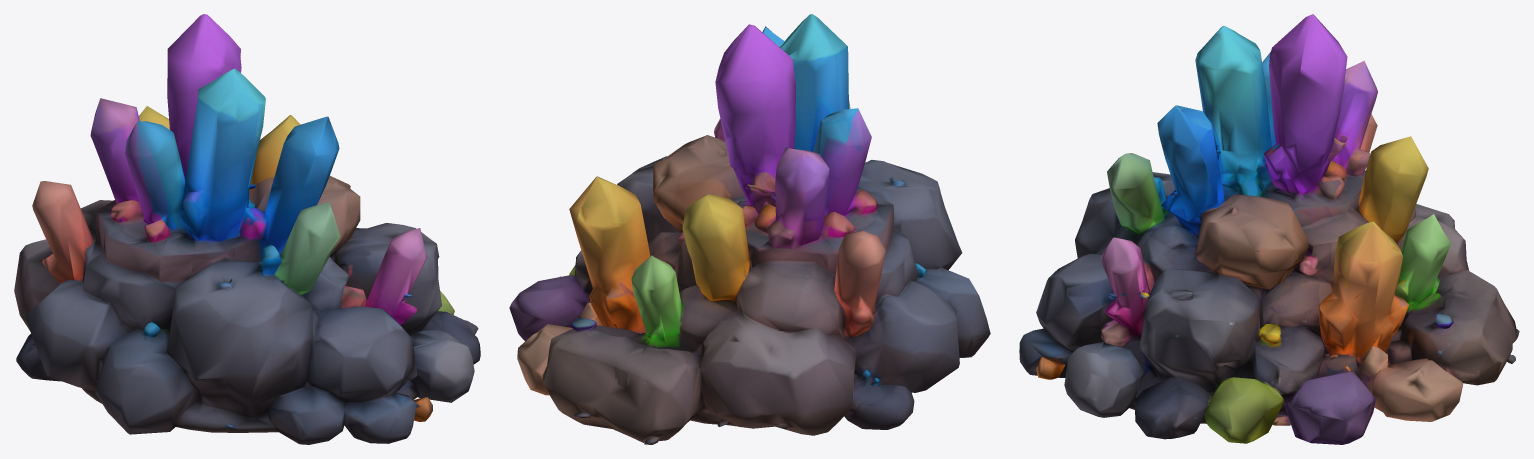
Rendered from crystal.glb.
3 views of the same model, side by side, from view 1: azimuth 30°, elevation 25°; view 2: azimuth 150°, elevation 25°; view 3: azimuth 270°, elevation 25° (orthographic). The views are drawn at different scales.
Visible parts, largest first — view 1: tripo_node_70d23bae-f5ca-406f-98e4-2d7720c7e8cd; view 2: tripo_node_70d23bae-f5ca-406f-98e4-2d7720c7e8cd; view 3: tripo_node_70d23bae-f5ca-406f-98e4-2d7720c7e8cd.
Boxes of the visible parts, bbox=[...] form: tripo_node_70d23bae-f5ca-406f-98e4-2d7720c7e8cd: bbox=[14, 14, 480, 444]; tripo_node_70d23bae-f5ca-406f-98e4-2d7720c7e8cd: bbox=[509, 14, 990, 444]; tripo_node_70d23bae-f5ca-406f-98e4-2d7720c7e8cd: bbox=[1019, 14, 1519, 444].
Size of the model in its own units: 0.8809 by 0.7215 by 0.9802.
1 material, 1 textured.
